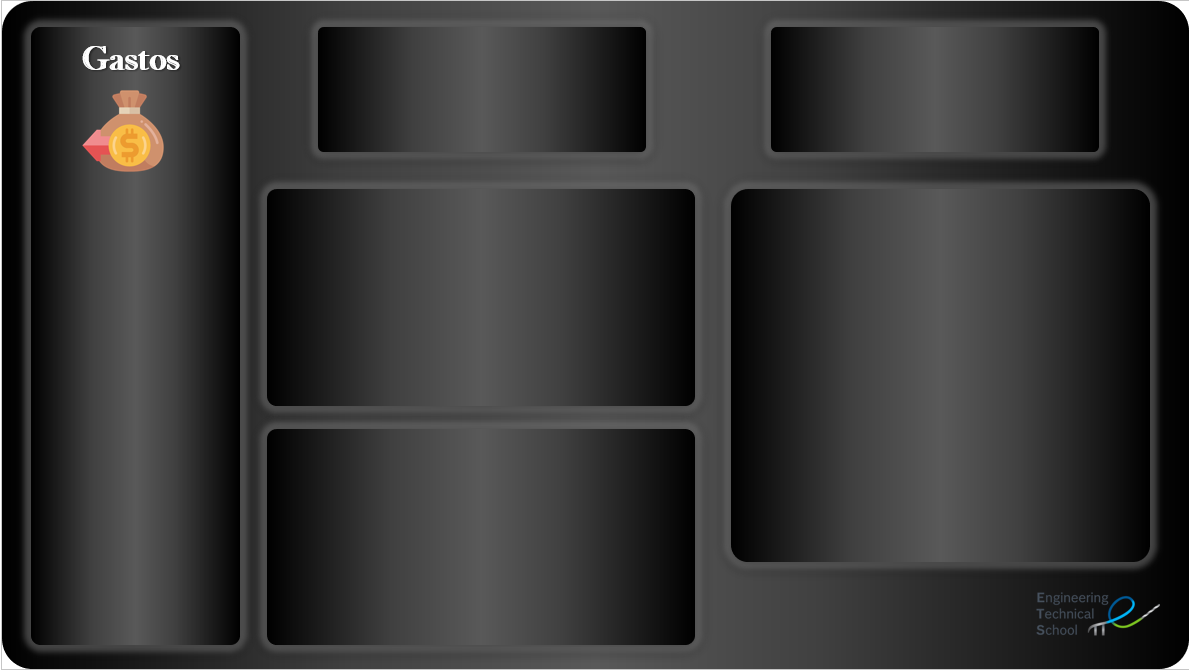

The dashboard page shown, as its layout file describes it:
{"tool":"powerbi","page":{"name":"GASTOS","canvas":[1280,720],"ordinal":2},"visuals":[{"type":"card","fields":{"Values":["Funcionários.Gasto Salarial Total (Absoluto)"]},"box":[863.3,62.8,244.7,99.2],"z":0},{"type":"funnel","fields":{"Y":["Funcionários.Gasto Salarial Total"],"Category":["Funcionários.Cargos.Área"]},"box":[391.2,223.8,276.6,199.2],"z":1000},{"type":"treemap","fields":{"Values":["Funcionários.Quantidade de funcionários"],"Group":["Funcionários.Cargos.Área"]},"box":[802.4,223.8,367.5,343],"z":1001},{"type":"pieChart","fields":{"Y":["Funcionários.Gasto Salarial Total"],"Category":["Funcionários.Cargos.Nível"]},"box":[377.2,459.2,318,196.8],"z":1002},{"type":"image","box":[907.4,593.1,155.8,95.7],"z":1003}]}

Visuals, with their boxes in screenshot pixels (x1, y1, x2, y2), scaled from the page's 1280x720 canvas onto the 1189x672 screenshot:
card - Funcionários.Gasto Salarial Total (Absoluto): locate(802, 59, 1029, 151)
funnel - Funcionários.Gasto Salarial Total x Funcionários.Cargos.Área: locate(363, 209, 620, 395)
treemap - Funcionários.Quantidade de funcionários x Funcionários.Cargos.Área: locate(745, 209, 1087, 529)
pieChart - Funcionários.Gasto Salarial Total x Funcionários.Cargos.Nível: locate(350, 429, 646, 612)
image: locate(843, 554, 988, 643)
